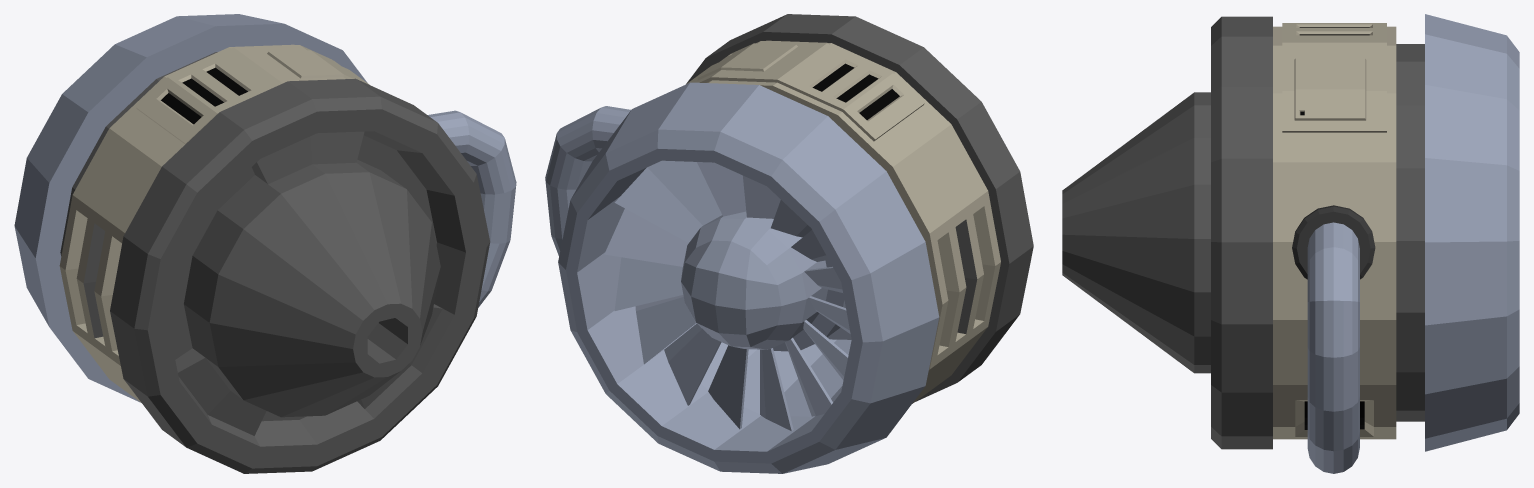
The model's file is SM_Engine.fbx.
3 views of the same model, side by side, from view 1: azimuth 30°, elevation 25°; view 2: azimuth 150°, elevation 25°; view 3: azimuth 270°, elevation 25° (orthographic). The views are drawn at different scales.
Visible parts, largest first — view 1: 柱体.058; view 2: 柱体.058; view 3: 柱体.058.
Part boxes in pixels (left/top/right/bottom): 柱体.058: left=14, top=14, right=516, bottom=473; 柱体.058: left=545, top=14, right=1033, bottom=473; 柱体.058: left=1062, top=14, right=1519, bottom=473.
Bounding box in the file's own units: 125 × 109 × 104.
